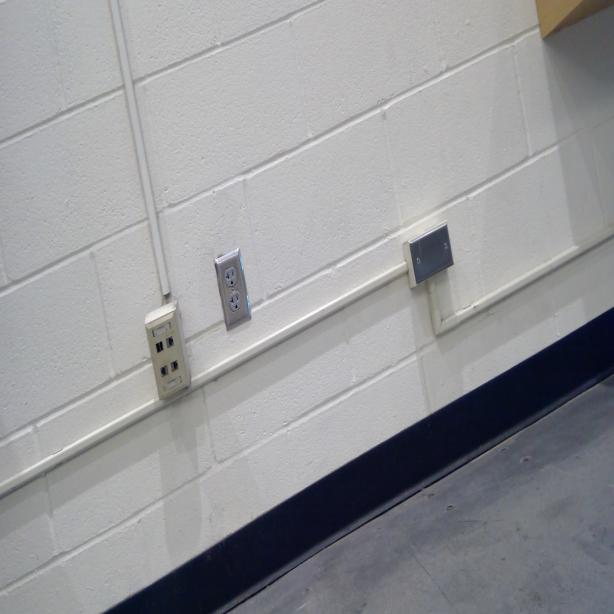typeb: (224, 268, 237, 288), (229, 293, 241, 311)
